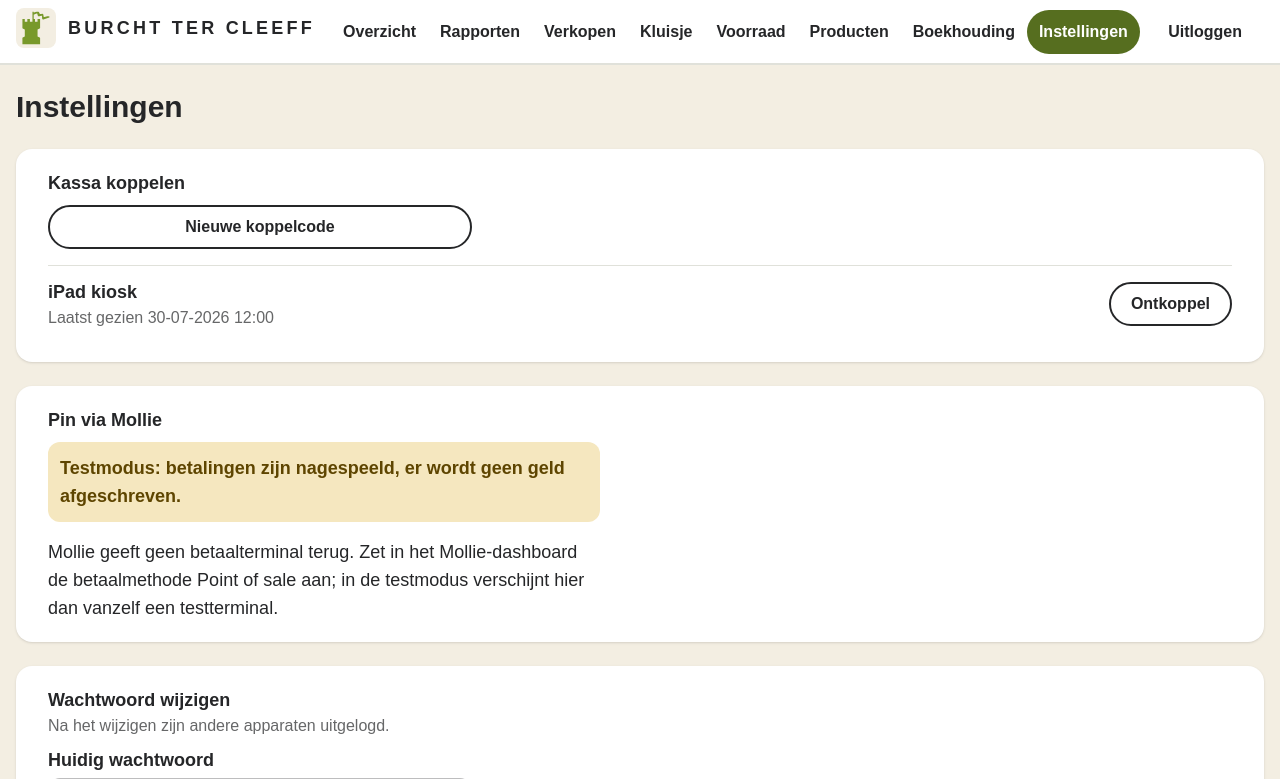
Test: unpairs a device after confirmation
Expected: the text "iPad kiosk" is shown, [48, 278, 137, 306]
Click the button "Ontkoppel".
click(1170, 304)  # box [1109, 282, 1232, 326]
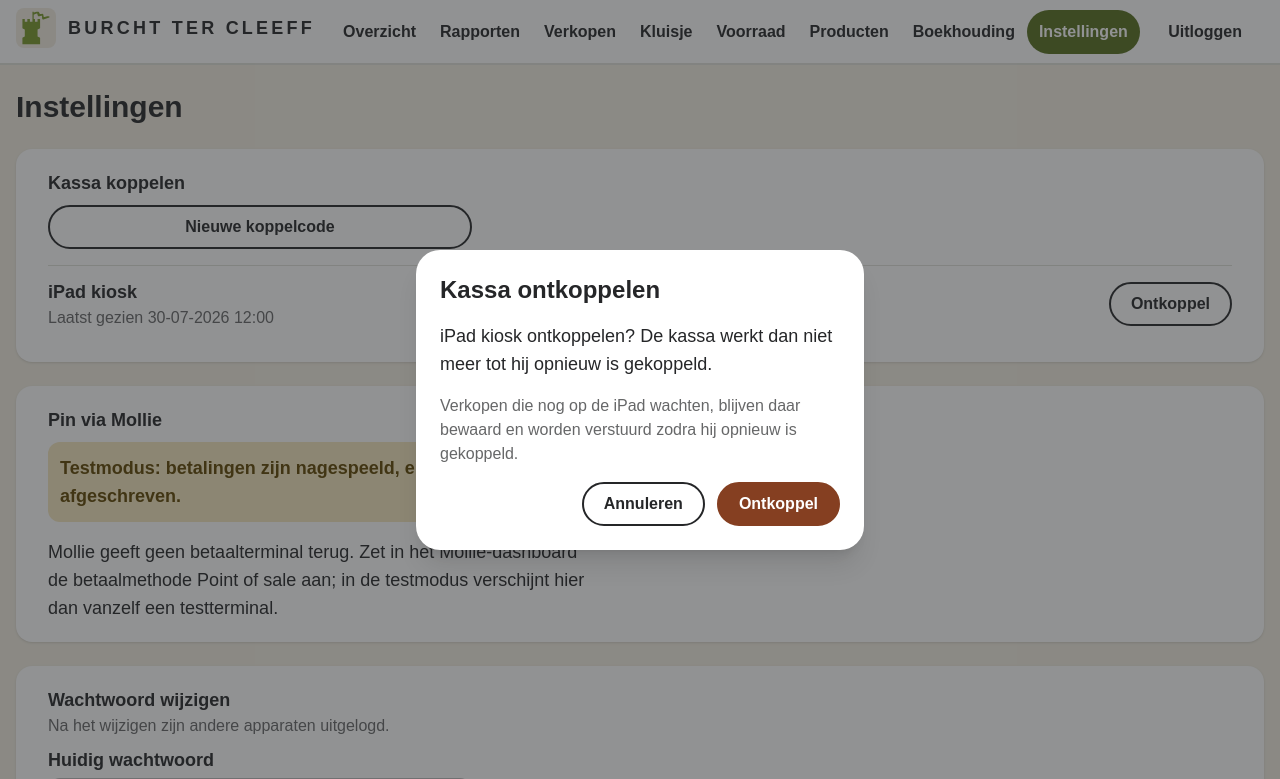
Now the text "iPad kiosk ontkoppelen? De kassa werkt dan niet meer tot hij opnieuw is gekoppeld." is shown, box [440, 326, 832, 374]
Click the button "Ontkoppel".
click(778, 504)  # box [717, 482, 840, 526]
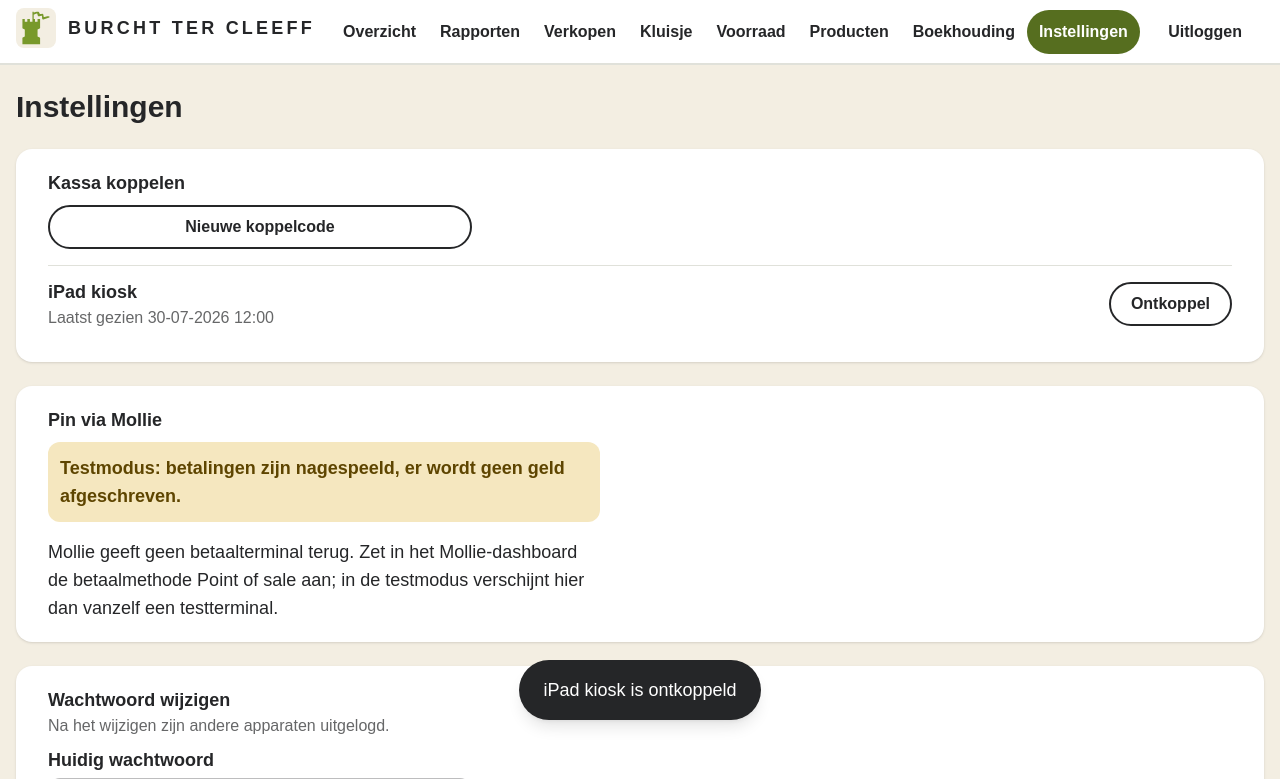
Now the dialog is gone
